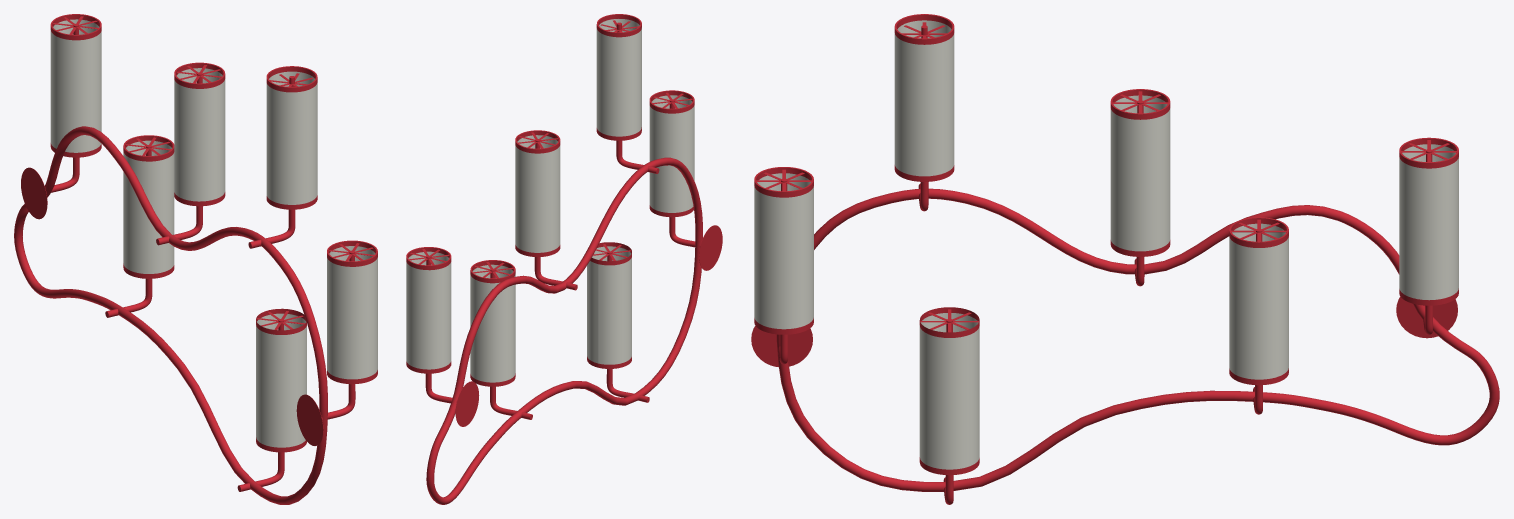
Rendered from LOT(308).glb.
3 views of the same model, side by side, from view 1: azimuth 30°, elevation 25°; view 2: azimuth 150°, elevation 25°; view 3: azimuth 270°, elevation 25° (orthographic). The views are drawn at different scales.
Parts seen in each view (by area): view 1: BezierCircle, Cylinder.004, Cylinder.010, Cylinder.002, Plane.017, Cylinder.011, Cylinder.020, Circle, Circle.001, NurbsPath.017, NurbsPath.020, NurbsPath.015 (+1 smaller); view 2: BezierCircle, Cylinder.004, Cylinder.010, Cylinder.011, Plane.017, Cylinder.002, Cylinder.020, Circle.001, Circle, NurbsPath.017; view 3: BezierCircle, Plane.017, Cylinder.004, Cylinder.010, Cylinder.020, Cylinder.011, Cylinder.002, Circle, Circle.001.
Part boxes in pixels (box(x1,y1,x2,y2)): BezierCircle: box(14, 126, 327, 504); Cylinder.004: box(266, 66, 317, 209); Cylinder.010: box(174, 62, 225, 206); Cylinder.002: box(327, 240, 377, 384); Plane.017: box(256, 308, 306, 452); Cylinder.011: box(50, 14, 101, 157); Cylinder.020: box(123, 135, 174, 278); Circle: box(296, 394, 323, 445); Circle.001: box(21, 167, 47, 219); NurbsPath.017: box(248, 209, 295, 248); NurbsPath.020: box(105, 279, 152, 317); NurbsPath.015: box(237, 452, 284, 491); BezierCircle: box(426, 157, 702, 504); Cylinder.004: box(596, 14, 641, 140); Cylinder.010: box(515, 130, 560, 256); Cylinder.011: box(406, 247, 451, 373); Plane.017: box(587, 242, 631, 368); Cylinder.002: box(649, 90, 694, 217); Cylinder.020: box(470, 260, 515, 386); Circle.001: box(455, 381, 479, 426); Circle: box(699, 225, 722, 270); NurbsPath.017: box(616, 140, 659, 173); BezierCircle: box(776, 188, 1499, 491); Plane.017: box(919, 307, 979, 475); Cylinder.004: box(894, 14, 954, 181); Cylinder.010: box(1110, 89, 1170, 256); Cylinder.020: box(1229, 217, 1288, 385); Cylinder.011: box(1399, 137, 1458, 305); Cylinder.002: box(754, 167, 813, 334); Circle: box(751, 326, 812, 367); Circle.001: box(1396, 296, 1457, 338).
Size of the model in its own units: 0.427 by 2.57 by 3.62.
